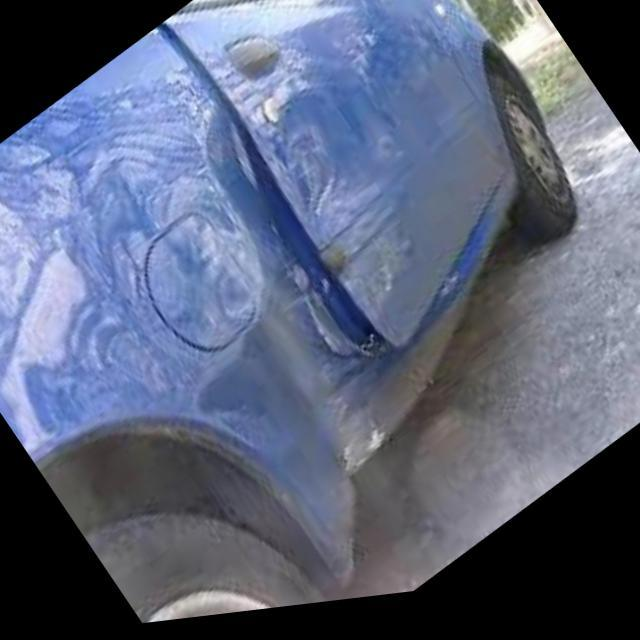dislocated part: (168, 89, 432, 572)
